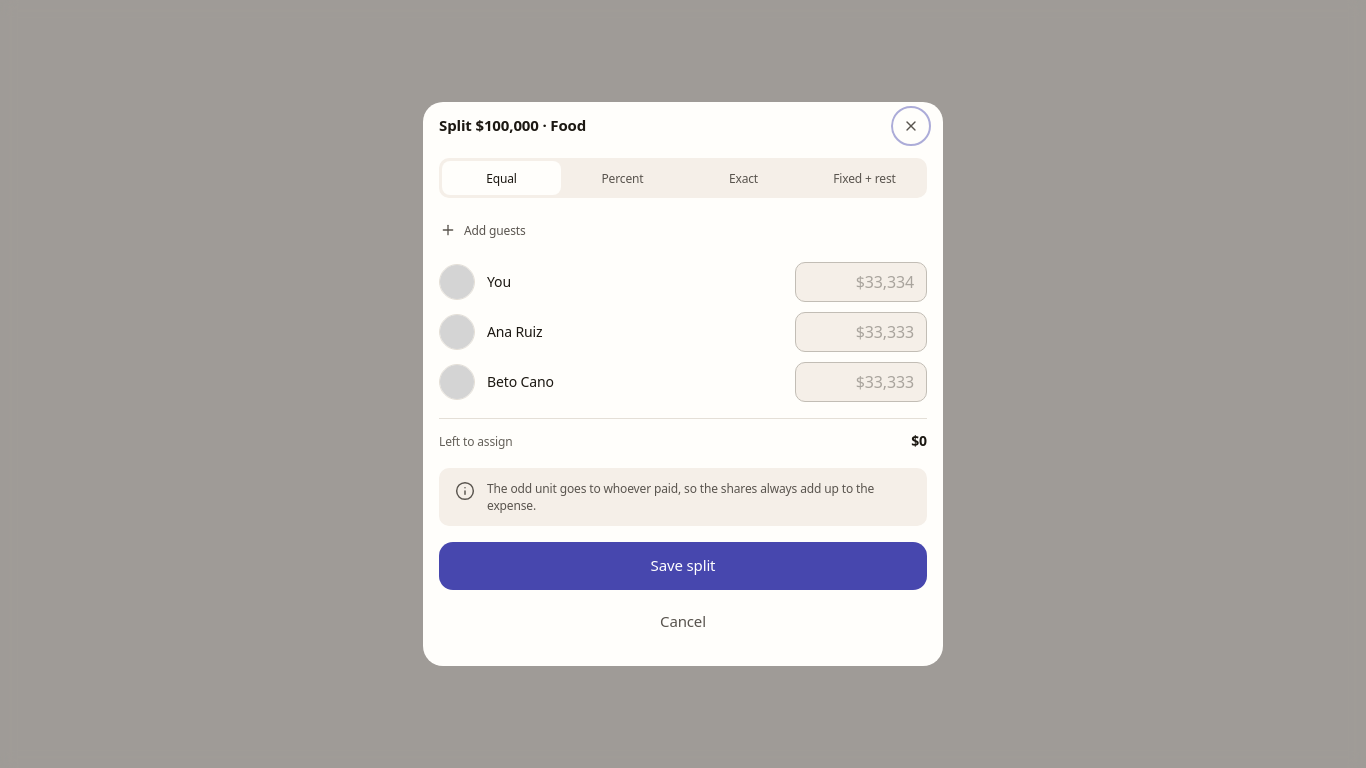
Test: SplitSheet › counts a block of guests as its head count
Click the 1st button named "Add guests": (489,230) top-left (439, 214), bottom-right (538, 246)
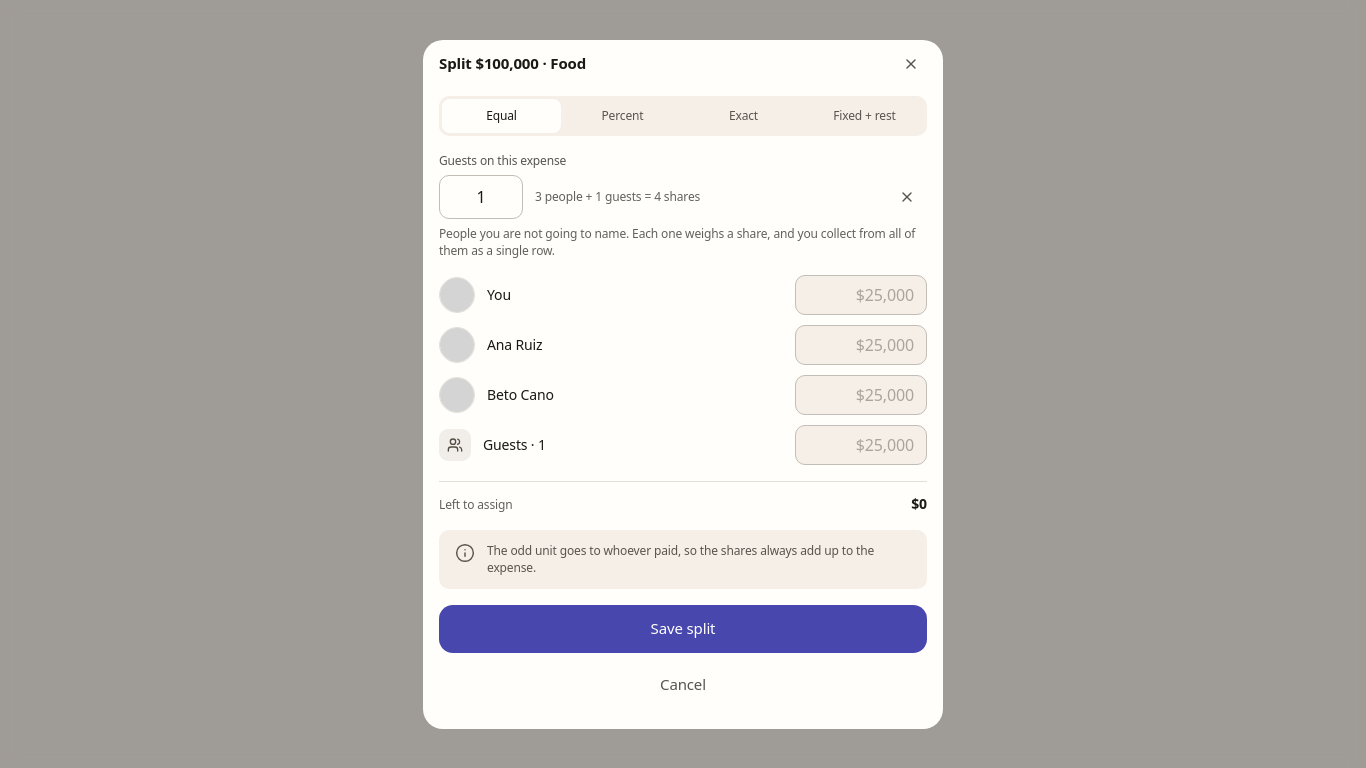
Replace the text in the field named "How many guests" with "7": (481,197) top-left (439, 175), bottom-right (523, 219)
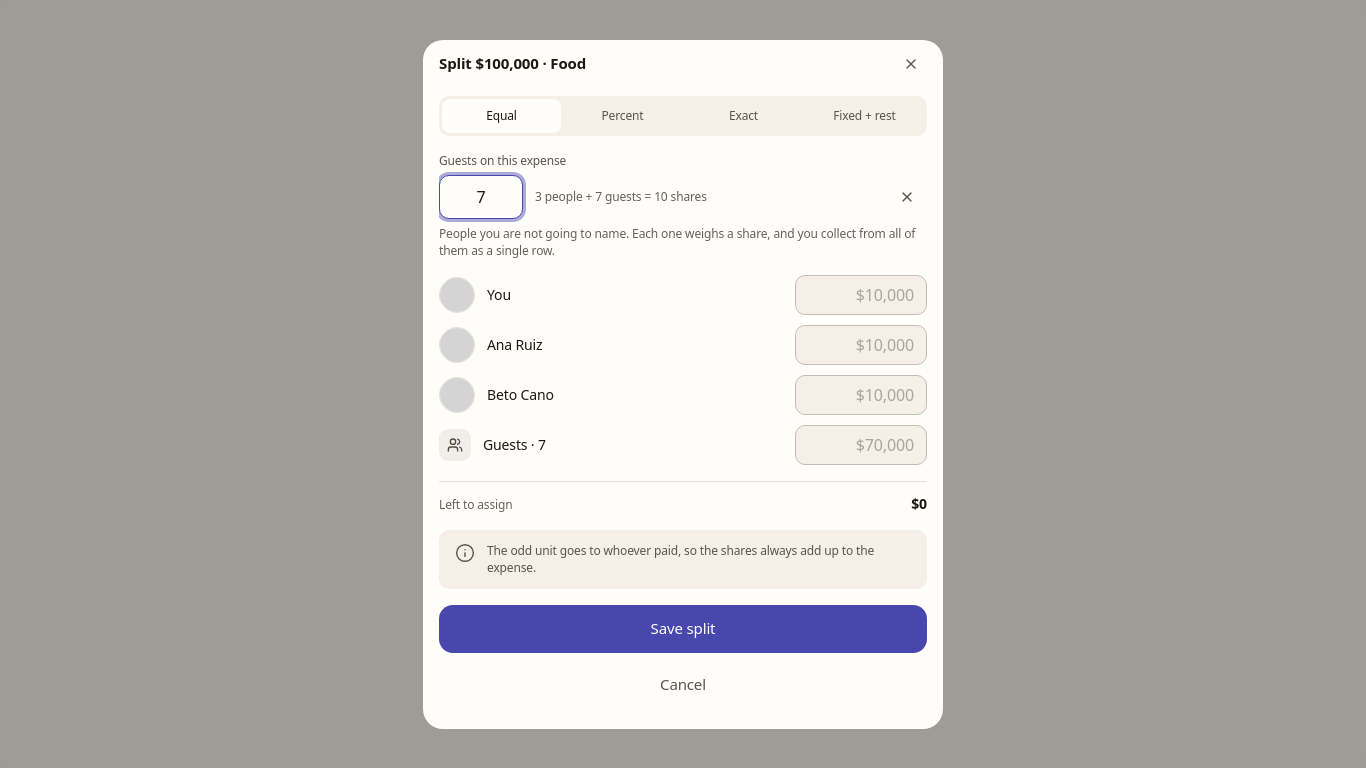
Now the text "3 people + 7 guests = 10 shares" is shown, box top-left (535, 188), bottom-right (707, 205)
Now the text "Guests · 7" is shown, box top-left (483, 435), bottom-right (546, 454)
